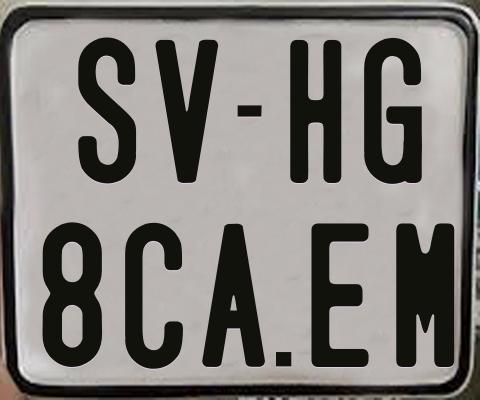8: (39, 220, 103, 366)
A: (202, 223, 265, 368)
C: (122, 220, 184, 368)
E: (311, 220, 373, 370)
G: (362, 37, 421, 184)
H: (289, 37, 346, 186)
M: (395, 223, 456, 370)
S: (77, 37, 137, 183)
V: (155, 37, 224, 180)
